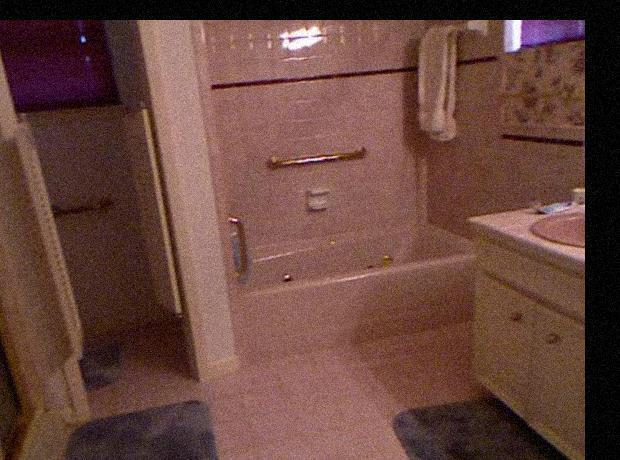Ducha: (0, 28, 218, 388)
Lavamanos: (529, 176, 582, 257)
